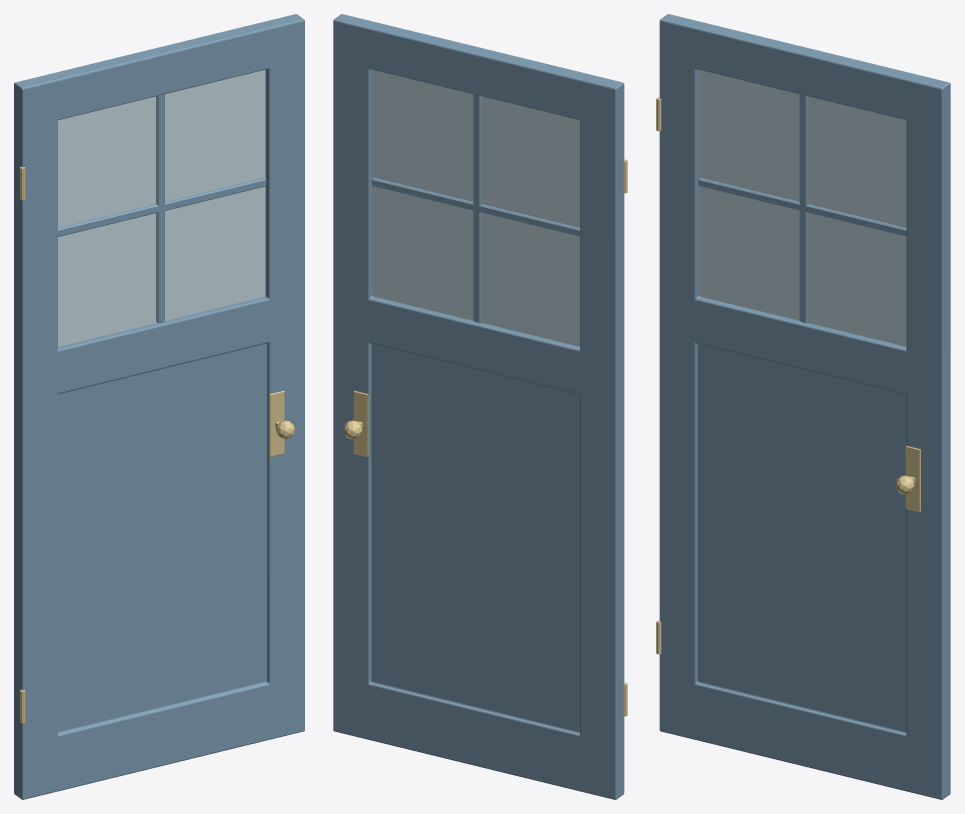
The model's file is door_leaf_front.glb.
The picture shows the model from 3 angles, left to right: view 1: azimuth 30°, elevation 25°; view 2: azimuth 150°, elevation 25°; view 3: azimuth 330°, elevation 25°; orthographic projection.
Parts seen in each view (by area): view 1: door_leaf_front_door, door_leaf_front_glass, door_leaf_front_brass; view 2: door_leaf_front_door, door_leaf_front_glass, door_leaf_front_brass; view 3: door_leaf_front_door, door_leaf_front_glass, door_leaf_front_brass.
Boxes of the visible parts, x1,y1,x2,y2 form: door_leaf_front_door: (14, 14, 304, 799); door_leaf_front_glass: (58, 69, 265, 346); door_leaf_front_brass: (20, 166, 294, 723); door_leaf_front_door: (333, 14, 624, 799); door_leaf_front_glass: (372, 70, 580, 346); door_leaf_front_brass: (343, 159, 627, 716); door_leaf_front_door: (659, 14, 950, 799); door_leaf_front_glass: (699, 69, 906, 346); door_leaf_front_brass: (656, 97, 920, 654).
Size of the model in its own units: 0.948 by 2.26 by 0.206.
